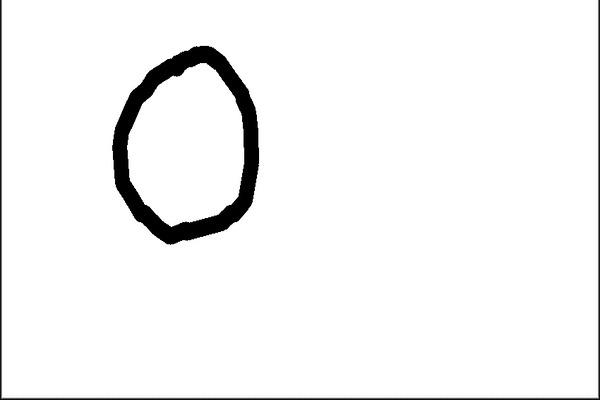O: (90, 39, 264, 244)
